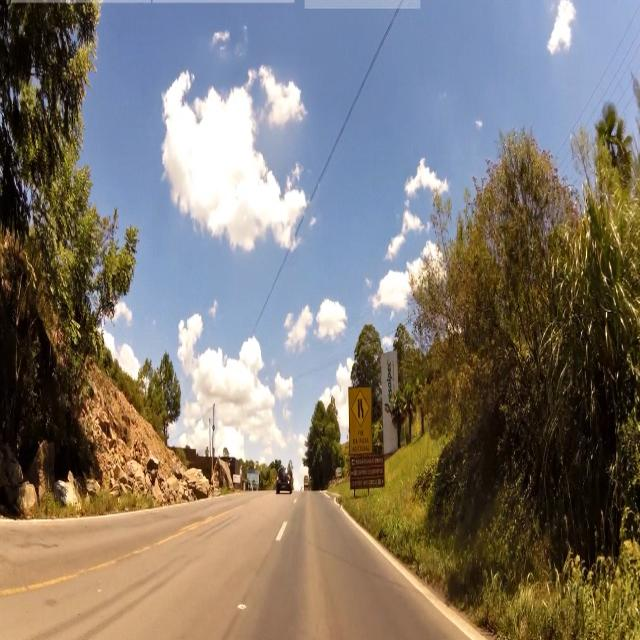A-21c: (349, 388, 371, 426)
